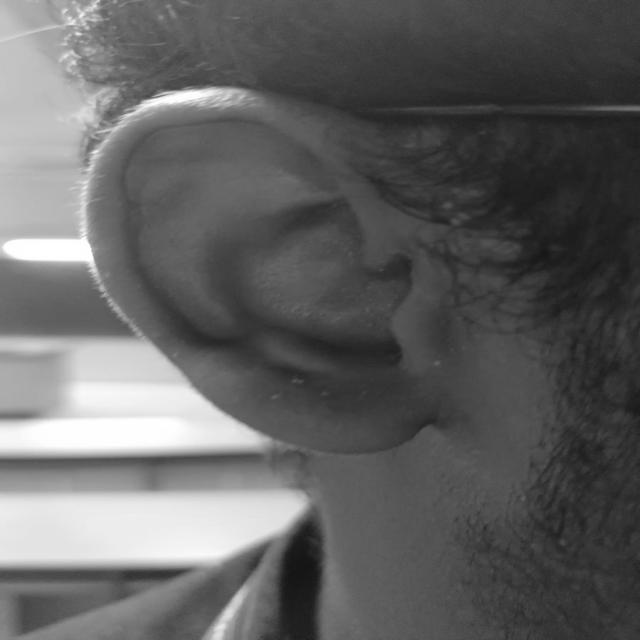ear: (85, 88, 446, 452), (339, 123, 342, 124)
